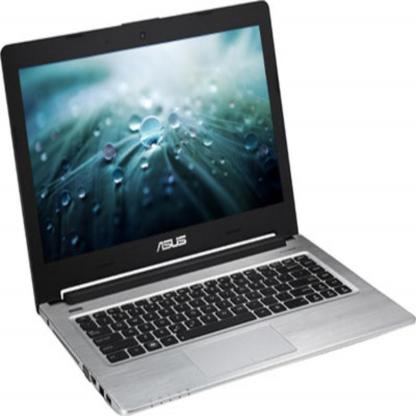board: (0, 0, 410, 414)
